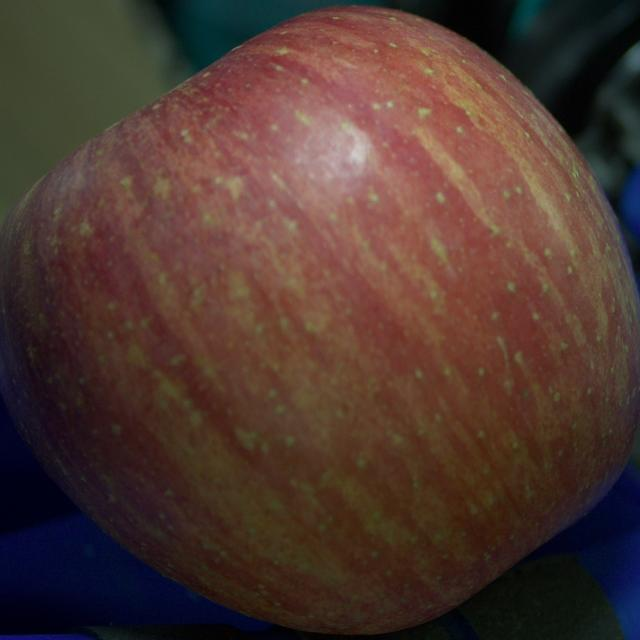apple: (0, 6, 639, 635)
